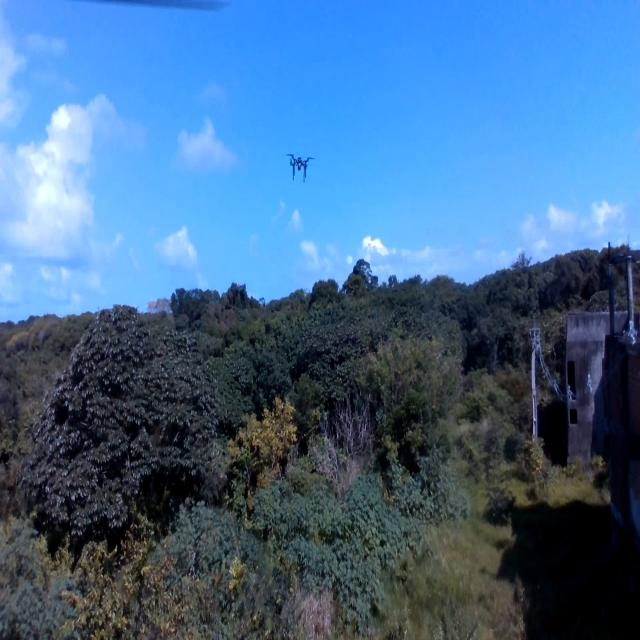-uav-: (281, 142, 318, 196)
